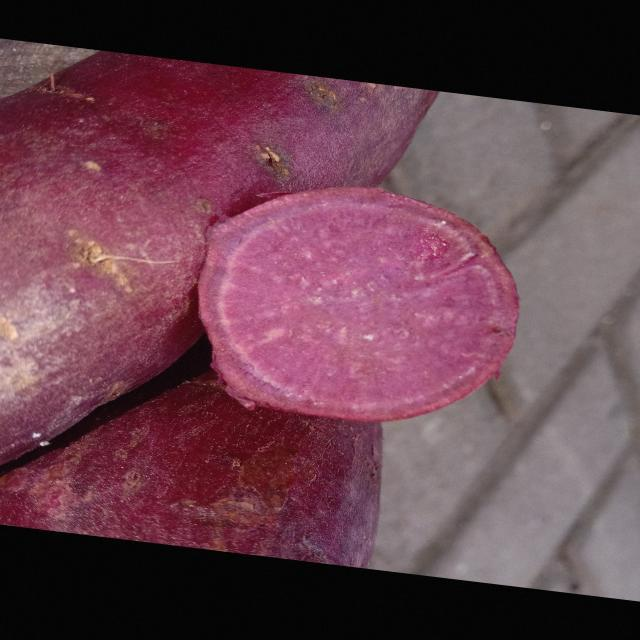Healthy Sweet Potato: (198, 188, 518, 421)
